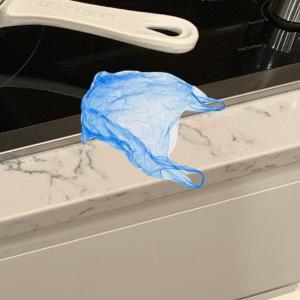plastic_bag: (77, 68, 227, 192)
